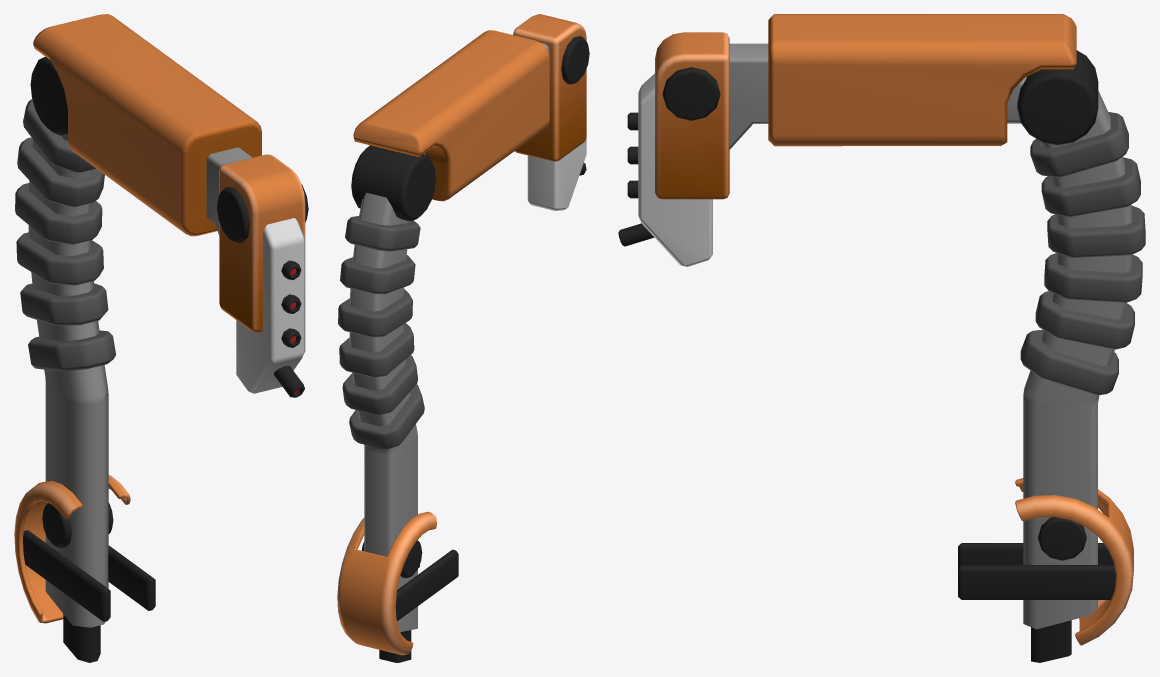
The model's file is tail_001.fbx.
3 views of the same model, side by side, from view 1: azimuth 30°, elevation 25°; view 2: azimuth 150°, elevation 25°; view 3: azimuth 270°, elevation 25° (orthographic). The views are drawn at different scales.
Parts seen in each view (by area): view 1: tail_001; view 2: tail_001; view 3: tail_001.
Part boxes in pixels (x1,y1,x2,y2): tail_001: (14, 14, 308, 662); tail_001: (337, 14, 589, 662); tail_001: (618, 14, 1145, 662).
Bounding box in the file's own units: 252 × 1412 × 1866.
